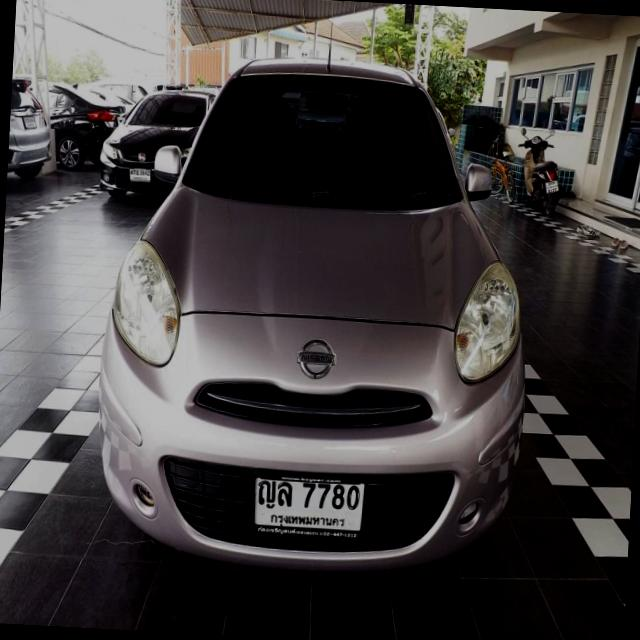license_plate: (248, 468, 372, 550)
